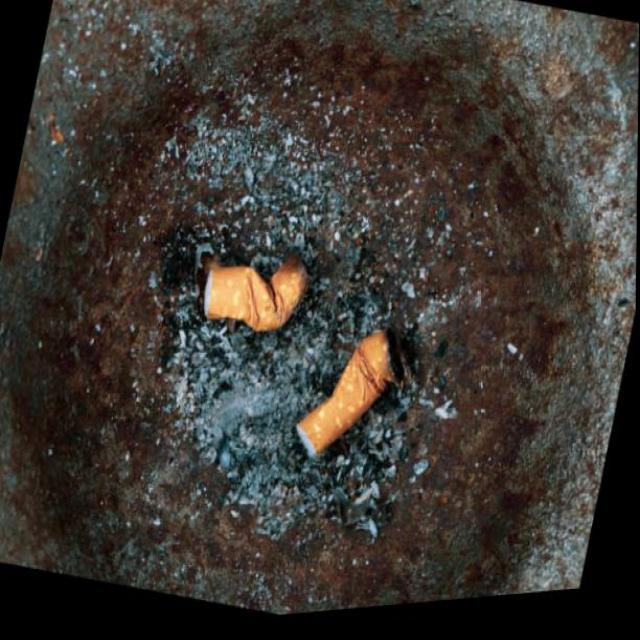cigarette: (287, 314, 409, 486), (192, 237, 312, 356)
